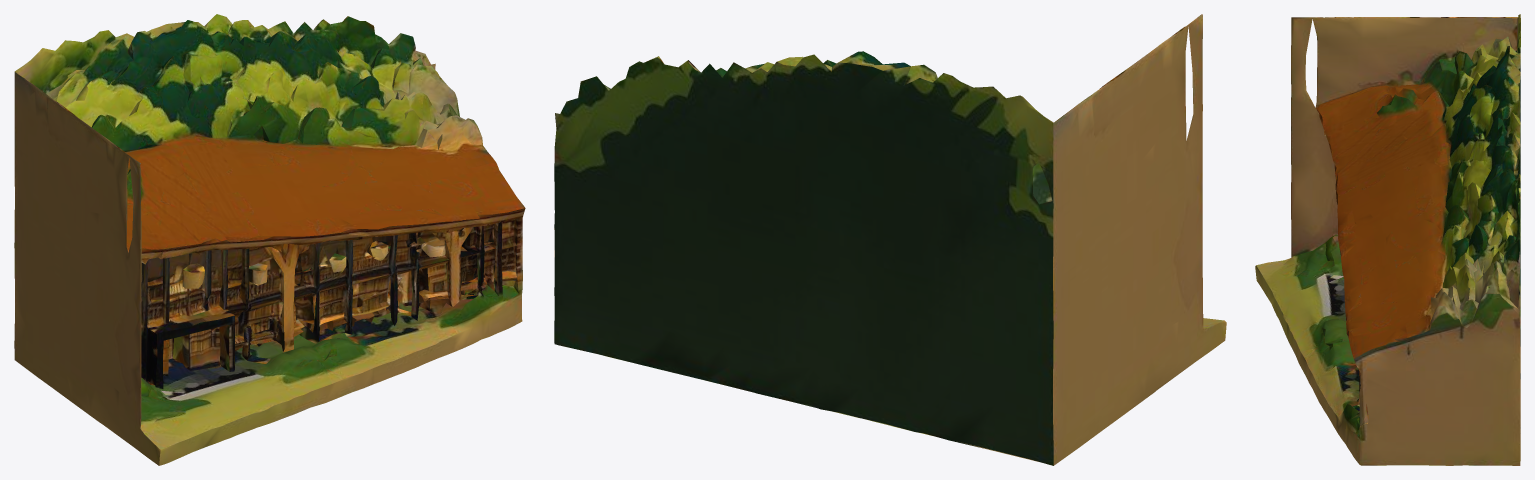
File: takeo-library.glb
3 views of the same model, side by side, from view 1: azimuth 30°, elevation 25°; view 2: azimuth 150°, elevation 25°; view 3: azimuth 270°, elevation 25° (orthographic). The views are drawn at different scales.
Parts seen in each view (by area): view 1: logan-textured.obj; view 2: logan-textured.obj; view 3: logan-textured.obj.
Part boxes in pixels (x1,y1,x2,y2): logan-textured.obj: [14, 14, 525, 465]; logan-textured.obj: [554, 14, 1226, 465]; logan-textured.obj: [1255, 14, 1520, 465].
Bounding box in the file's own units: 1 × 0.6998 × 0.6006.
Materials: 1 (1 with a texture image).
